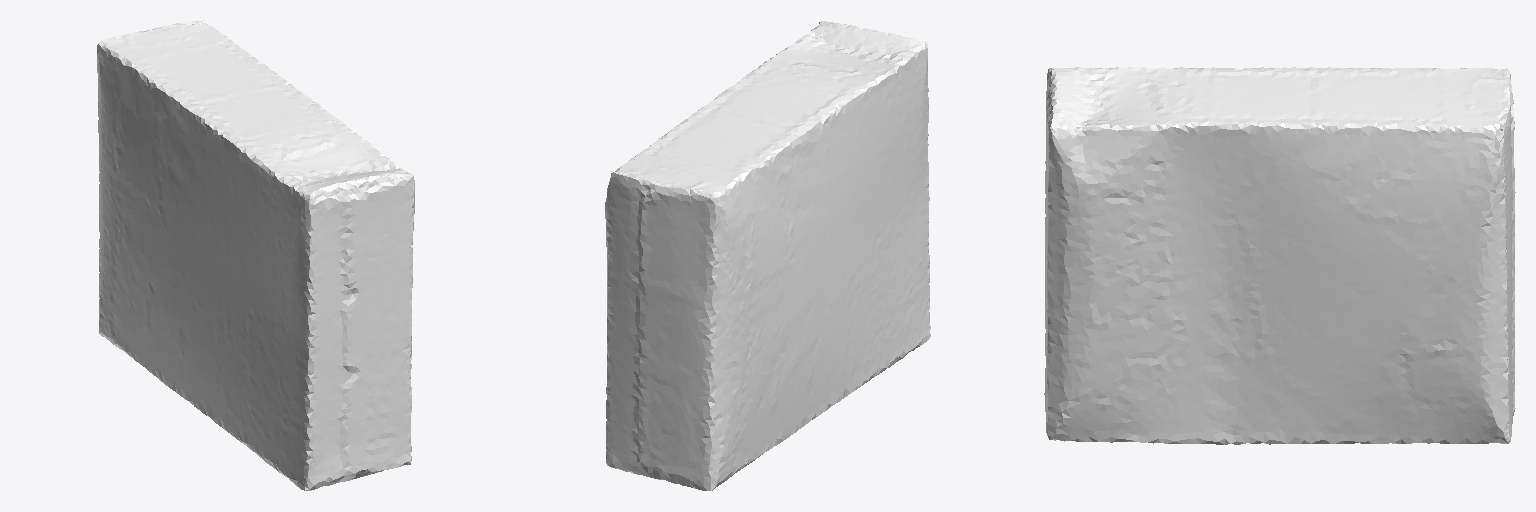
The robot description file, URDF, robot "model.urdf":
<?xml version="0.0" ?>
<robot name="model.urdf">
  <link name="baseLink">
    <contact>
      <friction_anchor/>
      <lateral_friction value="0.1"/>
      <rolling_friction value="0.0"/>
      <contact_cfm value="0.0"/>
      <contact_erp value="1.0"/>
    </contact>
    <inertial>
       <origin rpy="0 0 0" xyz="0. 0.0 0.0"/>
       <mass value=".895"/>
       <inertia ixx="0.1" ixy="0" ixz="0" iyy="0.1" iyz="0" izz="0.05"/>
    </inertial>
    <visual>
      <geometry>
        <mesh filename="textured_simple_reoriented.obj" scale="1 1 1"/>
      </geometry>
      <material name="white">
        <color rgba="1. 1. 1. 0.5"/>
      </material>
    </visual>
    <collision>
      <geometry>
    	 	<mesh filename="collision_vhacd.obj" scale="1 1 1"/>
      </geometry>
    </collision>
  </link>
</robot>

--- What the picture shows (computed from the rendered views, not written in the file) ---
The picture shows the robot from 3 angles, left to right: view 1: azimuth 30°, elevation 25°; view 2: azimuth 150°, elevation 25°; view 3: azimuth 270°, elevation 25°; orthographic projection.
Model model.urdf with 1 links and 0 joints (none), rooted at baseLink, posed all joints at 0.
Visible links, largest first — view 1: baseLink; view 2: baseLink; view 3: baseLink.
Link boxes in pixels (x1=…): baseLink: x1=97, y1=20, x2=414, y2=490; baseLink: x1=605, y1=21, x2=930, y2=490; baseLink: x1=1044, y1=67, x2=1515, y2=444.
Bounding box of the posed robot: 0.0717 × 0.2135 × 0.164 m (x, y, z).
1 mesh visuals loaded from 1 distinct referenced files (1 OBJ).